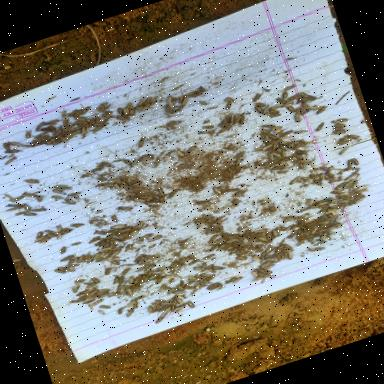pbw: (191, 197, 210, 207), (310, 214, 329, 224), (164, 118, 182, 128), (22, 189, 38, 200), (116, 202, 132, 213), (58, 253, 75, 263), (7, 194, 24, 204), (4, 200, 21, 210), (303, 92, 317, 104), (31, 205, 47, 215), (224, 143, 240, 153), (330, 127, 346, 137), (68, 220, 84, 230), (58, 133, 74, 143), (4, 146, 20, 156), (24, 176, 40, 186), (74, 113, 88, 124), (130, 273, 144, 284), (250, 91, 264, 102), (22, 209, 37, 219), (314, 104, 329, 114), (287, 174, 302, 184), (137, 192, 152, 202), (231, 150, 246, 160), (136, 136, 148, 148), (125, 298, 139, 308), (252, 100, 266, 110), (50, 192, 64, 202), (116, 112, 130, 122), (332, 124, 346, 134), (182, 282, 196, 292), (184, 144, 198, 154), (258, 266, 272, 276), (110, 222, 127, 230), (262, 158, 279, 166), (33, 134, 50, 142), (94, 101, 109, 110), (230, 239, 245, 248), (284, 103, 296, 114), (100, 158, 112, 169), (80, 251, 92, 262), (260, 104, 272, 115), (300, 100, 312, 111), (324, 164, 335, 176), (274, 95, 286, 106), (124, 306, 136, 317), (33, 121, 46, 131), (331, 117, 344, 127), (94, 173, 107, 183), (263, 270, 276, 280), (347, 132, 360, 142), (273, 242, 286, 252), (153, 314, 166, 324), (342, 177, 355, 187), (116, 226, 132, 234), (316, 196, 332, 204), (146, 234, 162, 242), (89, 125, 105, 133), (260, 122, 276, 130), (342, 172, 358, 180), (52, 182, 68, 190), (44, 118, 60, 126), (32, 130, 48, 138), (296, 206, 312, 214), (277, 130, 293, 138), (6, 205, 22, 213), (138, 155, 154, 163), (284, 94, 300, 102), (134, 97, 148, 106), (142, 264, 156, 273), (94, 118, 108, 127), (226, 186, 240, 195), (352, 195, 366, 204), (274, 224, 288, 233), (104, 231, 118, 240), (230, 115, 244, 124), (266, 107, 280, 116), (171, 287, 185, 296), (44, 227, 58, 236), (21, 202, 32, 213), (179, 96, 190, 107), (122, 242, 134, 252), (296, 146, 308, 156), (136, 274, 148, 284), (258, 250, 268, 262), (278, 155, 293, 163), (268, 142, 280, 152), (120, 156, 132, 166), (128, 157, 140, 167), (226, 246, 238, 256), (33, 234, 48, 242), (96, 104, 111, 112), (90, 298, 105, 306), (278, 142, 290, 152), (127, 229, 139, 239), (74, 254, 86, 264), (314, 121, 326, 131), (94, 228, 106, 238), (106, 290, 121, 298), (270, 164, 285, 172), (338, 192, 350, 202), (256, 234, 268, 244), (266, 110, 281, 118), (313, 244, 326, 253), (84, 279, 97, 288), (21, 141, 34, 150), (333, 121, 346, 130), (206, 234, 219, 243), (212, 215, 226, 223), (272, 246, 286, 254), (172, 304, 186, 312), (136, 234, 150, 242), (338, 138, 352, 146), (260, 142, 274, 150), (76, 118, 90, 126), (200, 264, 214, 272), (214, 243, 228, 251), (122, 189, 136, 197), (250, 146, 264, 154), (262, 262, 276, 270), (270, 160, 284, 168), (294, 128, 308, 136), (90, 164, 104, 172), (56, 184, 70, 192), (333, 181, 347, 189), (66, 256, 80, 264), (282, 84, 296, 92), (55, 130, 69, 138), (351, 192, 365, 200), (65, 261, 79, 269), (189, 90, 203, 98), (170, 84, 184, 92), (81, 122, 95, 130), (328, 176, 342, 184), (216, 120, 230, 128), (217, 125, 231, 133), (268, 102, 282, 110), (66, 125, 82, 132), (232, 156, 243, 166), (225, 95, 236, 105), (201, 270, 212, 280), (149, 95, 160, 105), (348, 179, 360, 188), (54, 266, 66, 275), (142, 96, 154, 105), (166, 189, 178, 198), (124, 100, 136, 109), (100, 107, 112, 116), (100, 111, 112, 120), (58, 245, 70, 254), (90, 251, 102, 260), (110, 249, 122, 258), (84, 254, 96, 263), (264, 230, 273, 242), (72, 108, 84, 117), (315, 218, 330, 225), (277, 133, 292, 140), (37, 236, 52, 243), (285, 230, 298, 238), (132, 254, 145, 262), (224, 276, 237, 284), (224, 240, 237, 248), (202, 252, 215, 260), (337, 146, 350, 154), (281, 246, 294, 254), (86, 288, 99, 296), (201, 122, 214, 130), (117, 232, 130, 240), (329, 188, 342, 196), (266, 246, 279, 254), (211, 264, 224, 272), (201, 128, 214, 136), (156, 264, 169, 272), (336, 116, 349, 124), (97, 180, 110, 188), (3, 156, 16, 164), (236, 115, 246, 125), (272, 149, 282, 159), (52, 186, 62, 196), (176, 94, 186, 104), (298, 94, 308, 104), (176, 148, 186, 158), (205, 226, 215, 236), (313, 178, 323, 188), (350, 156, 360, 166), (279, 90, 289, 100), (80, 125, 90, 135), (326, 211, 337, 220), (97, 238, 108, 247), (134, 104, 145, 113), (136, 220, 145, 231), (127, 105, 136, 116), (339, 166, 353, 173), (281, 100, 295, 107), (268, 124, 282, 131), (312, 239, 326, 246), (72, 297, 86, 304), (324, 174, 338, 181), (334, 190, 348, 197), (67, 190, 81, 197), (44, 133, 58, 140), (264, 255, 278, 262), (108, 245, 122, 252), (82, 298, 96, 305), (148, 197, 160, 205), (235, 254, 247, 262), (57, 264, 69, 272), (64, 266, 76, 274), (118, 268, 130, 276), (238, 240, 250, 248), (134, 196, 146, 204), (348, 186, 360, 194), (207, 244, 219, 252), (310, 104, 322, 112), (144, 261, 156, 269), (230, 276, 242, 284), (260, 260, 272, 268), (178, 238, 190, 246), (318, 164, 330, 172), (79, 106, 91, 114), (333, 186, 345, 194), (152, 211, 164, 219), (338, 197, 350, 205), (296, 232, 308, 240), (308, 226, 320, 234), (74, 276, 86, 284), (308, 172, 320, 180), (64, 128, 76, 136), (264, 252, 276, 260), (294, 238, 306, 246), (148, 272, 160, 280), (193, 264, 205, 272), (187, 258, 199, 266), (221, 232, 233, 240), (150, 300, 162, 308), (323, 170, 335, 178), (198, 278, 210, 286), (98, 302, 110, 310), (299, 174, 311, 182), (253, 227, 266, 234), (311, 231, 324, 238), (87, 236, 100, 243), (100, 245, 113, 252), (116, 275, 125, 285), (292, 151, 302, 160), (154, 181, 164, 190), (252, 253, 261, 263), (110, 258, 120, 267), (60, 112, 70, 121), (186, 299, 195, 309), (224, 101, 234, 110), (283, 242, 293, 251), (293, 106, 302, 116), (151, 158, 161, 167), (175, 292, 185, 301), (10, 139, 20, 148), (236, 248, 246, 257), (154, 275, 164, 284), (214, 226, 225, 234), (95, 252, 106, 260), (297, 90, 308, 98), (161, 306, 172, 314), (241, 228, 252, 236), (195, 220, 206, 228), (34, 230, 45, 238), (86, 282, 97, 290), (326, 222, 340, 228), (154, 297, 166, 304), (302, 217, 314, 224), (98, 289, 110, 296), (45, 231, 57, 238), (174, 302, 188, 308), (354, 186, 368, 192), (96, 292, 110, 298), (212, 237, 224, 244), (80, 288, 94, 294), (110, 236, 122, 243), (60, 228, 74, 234), (63, 124, 75, 131), (184, 90, 198, 96), (75, 290, 87, 297), (180, 257, 192, 264), (164, 149, 176, 156), (103, 266, 112, 275), (282, 250, 290, 260), (68, 108, 78, 116), (298, 156, 308, 164), (166, 94, 174, 104), (194, 272, 204, 280), (345, 158, 353, 168), (254, 106, 264, 114), (228, 112, 236, 122), (23, 130, 33, 138), (2, 142, 10, 152), (352, 166, 362, 174), (131, 300, 139, 310), (250, 268, 258, 278), (115, 284, 123, 294), (279, 138, 289, 146), (288, 140, 296, 150), (164, 104, 172, 114), (298, 106, 306, 116), (120, 178, 128, 188), (316, 222, 326, 230), (188, 273, 198, 281), (42, 138, 52, 146), (259, 128, 267, 138), (274, 154, 284, 162), (206, 274, 216, 282), (90, 276, 100, 284), (144, 253, 154, 261), (170, 262, 180, 270), (209, 224, 219, 232), (268, 132, 276, 142), (356, 188, 369, 194), (225, 237, 238, 243), (105, 228, 118, 234), (15, 210, 28, 216), (318, 206, 329, 213), (350, 191, 362, 197), (157, 304, 166, 312), (277, 168, 289, 174), (182, 160, 194, 166), (158, 196, 166, 205), (112, 181, 120, 190), (142, 152, 154, 158), (134, 294, 146, 300), (266, 151, 274, 160), (324, 208, 336, 214), (183, 280, 195, 286), (125, 286, 133, 295), (127, 275, 135, 284), (231, 198, 240, 206), (55, 223, 63, 232), (305, 233, 313, 242), (176, 283, 184, 292), (122, 107, 130, 116), (220, 118, 228, 127), (262, 126, 270, 135), (199, 98, 208, 106), (88, 116, 96, 125), (70, 130, 82, 136), (62, 118, 70, 127), (346, 198, 358, 204), (328, 207, 336, 216), (193, 280, 202, 288), (286, 251, 294, 260), (103, 253, 112, 261), (54, 231, 62, 240), (271, 228, 278, 238), (291, 143, 301, 150), (32, 140, 42, 147), (156, 151, 166, 158), (72, 120, 82, 127), (294, 232, 304, 239), (162, 299, 172, 306), (164, 273, 174, 280), (172, 263, 182, 270), (328, 199, 338, 206), (110, 214, 117, 224), (116, 106, 123, 116), (288, 224, 298, 231), (146, 304, 153, 314), (100, 242, 110, 249), (327, 226, 338, 232), (316, 200, 327, 206), (330, 197, 341, 203), (316, 228, 327, 234), (359, 182, 370, 188), (152, 192, 160, 200), (258, 276, 266, 284), (262, 134, 270, 142), (188, 253, 196, 261), (208, 266, 216, 274), (320, 232, 328, 240), (50, 127, 58, 135), (264, 244, 272, 252), (278, 252, 286, 260), (172, 298, 180, 306), (293, 114, 301, 122), (298, 223, 306, 231), (100, 218, 108, 226), (142, 103, 151, 110), (41, 136, 50, 143), (289, 232, 298, 239), (245, 234, 252, 243), (166, 287, 175, 294), (56, 125, 63, 134), (96, 288, 108, 293), (264, 140, 274, 146), (252, 276, 262, 282), (50, 138, 60, 144), (328, 204, 340, 209), (251, 233, 261, 239), (70, 240, 80, 246), (236, 234, 246, 240), (332, 166, 342, 172), (224, 114, 231, 122), (94, 116, 101, 124), (308, 244, 315, 252), (116, 307, 124, 314), (176, 296, 183, 304), (146, 270, 154, 277), (213, 186, 220, 194), (328, 229, 336, 236), (151, 305, 158, 313), (298, 162, 305, 170), (157, 188, 164, 196), (129, 182, 140, 187), (276, 253, 282, 262), (174, 106, 184, 111), (139, 258, 146, 265), (109, 240, 116, 247), (85, 171, 92, 178), (60, 110, 67, 117), (98, 308, 104, 316), (200, 262, 208, 268), (290, 214, 298, 220), (354, 138, 362, 144), (318, 172, 324, 180), (112, 278, 120, 284), (168, 262, 176, 268), (280, 150, 286, 158), (312, 166, 320, 172), (136, 266, 144, 272), (206, 216, 214, 222), (308, 204, 320, 208), (46, 125, 52, 133), (308, 162, 316, 168), (90, 293, 97, 299), (160, 284, 166, 291), (270, 206, 276, 213), (36, 195, 42, 202), (72, 286, 78, 293), (326, 234, 332, 241), (329, 203, 337, 208), (270, 259, 278, 264), (88, 303, 93, 311), (78, 295, 86, 300), (236, 190, 246, 194), (48, 126, 54, 132), (178, 278, 184, 284), (186, 278, 195, 282), (120, 284, 126, 290), (296, 228, 302, 234), (169, 306, 175, 312), (85, 294, 92, 299), (286, 224, 294, 228), (306, 227, 312, 232), (84, 290, 91, 294), (146, 194, 153, 198), (51, 137, 56, 142), (76, 286, 80, 290)
